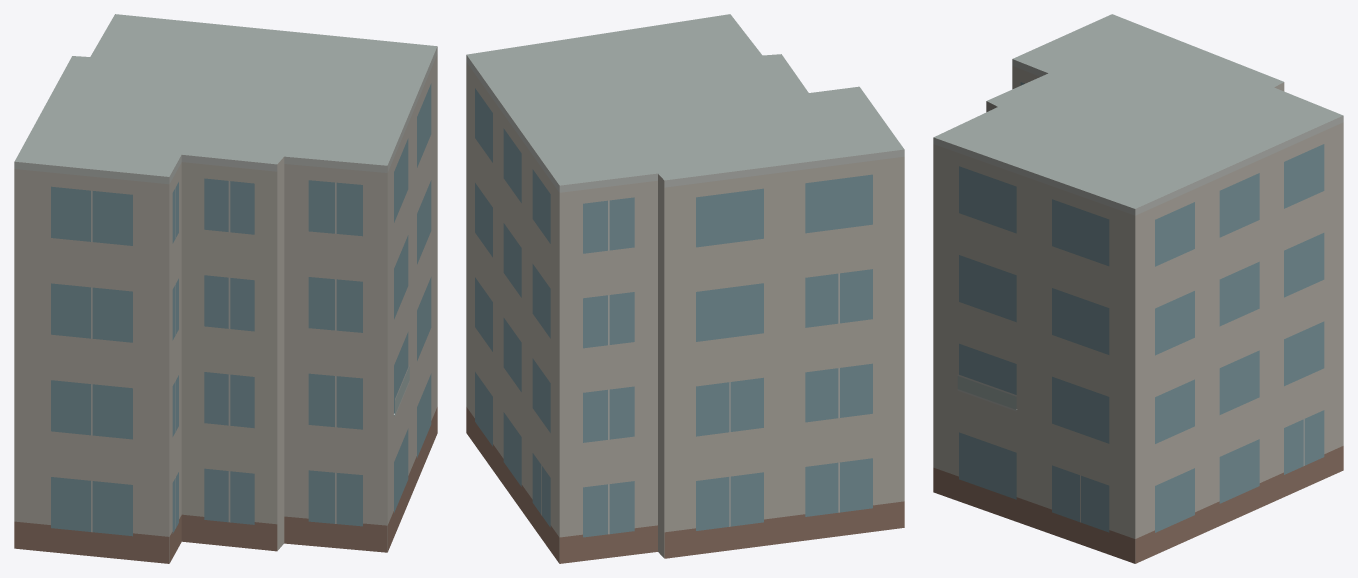
Rendered from survey-upis-32634550.glb.
The picture shows the model from 3 angles, left to right: view 1: azimuth 30°, elevation 25°; view 2: azimuth 150°, elevation 25°; view 3: azimuth 270°, elevation 25°; orthographic projection. The views are drawn at different scales.
Visible parts, largest first — view 1: survey-upis-32634550.tmp; view 2: survey-upis-32634550.tmp; view 3: survey-upis-32634550.tmp.
Boxes of the visible parts, <box> form: survey-upis-32634550.tmp: <box>14,14,437,563</box>; survey-upis-32634550.tmp: <box>466,14,904,563</box>; survey-upis-32634550.tmp: <box>933,14,1343,563</box>.
Size of the model in its own units: 15.21 by 12.9 by 13.52.
